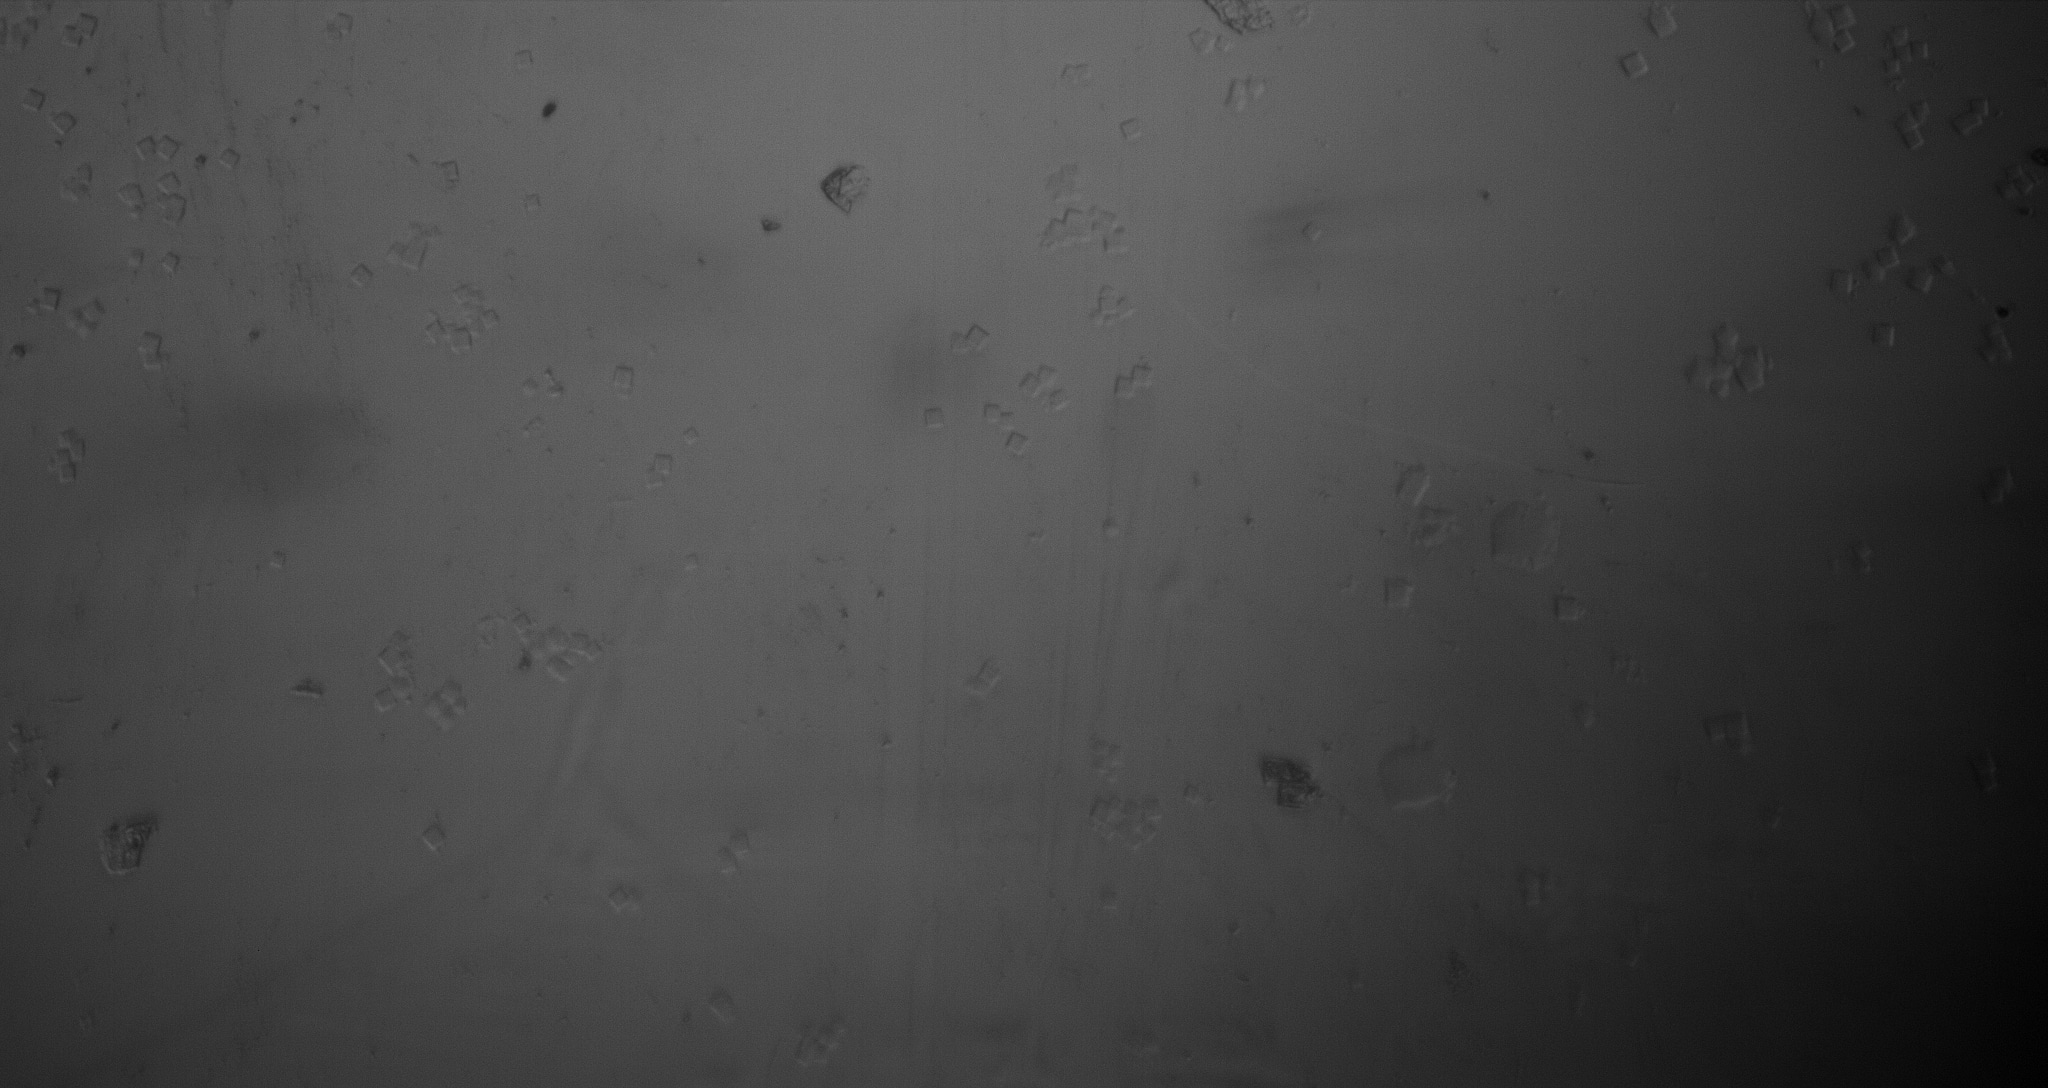square: (1378, 576, 1418, 612), (1551, 591, 1585, 625), (1866, 317, 1898, 350), (419, 822, 450, 851), (1619, 51, 1651, 79), (1904, 267, 1934, 295), (605, 883, 633, 913), (1117, 115, 1145, 142), (964, 321, 990, 350), (611, 364, 637, 392), (1002, 431, 1031, 455), (22, 87, 47, 112), (922, 406, 950, 431), (371, 688, 398, 713), (1827, 270, 1854, 294), (348, 263, 374, 287), (137, 331, 161, 354), (41, 286, 64, 310), (160, 251, 182, 276), (681, 550, 702, 572), (218, 148, 241, 167), (521, 194, 545, 213), (982, 402, 1002, 423), (135, 137, 154, 157), (515, 49, 534, 69), (1302, 222, 1322, 241), (270, 549, 287, 568), (129, 249, 145, 268), (684, 427, 700, 444)
